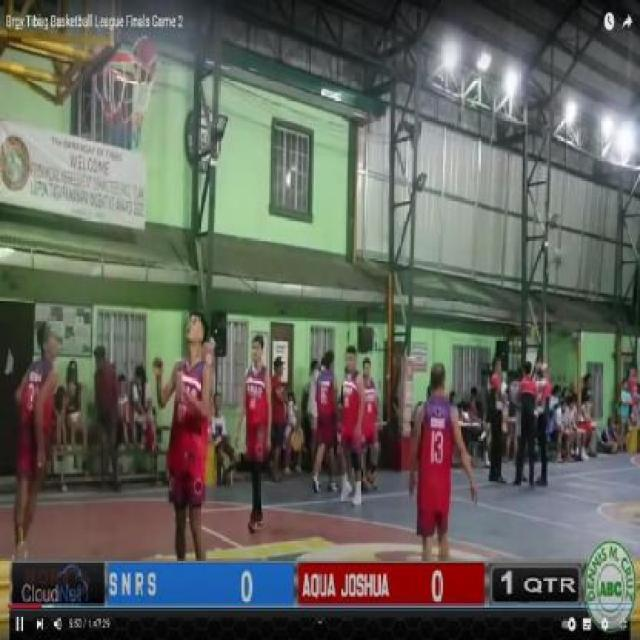Ball: (132, 35, 157, 77)
